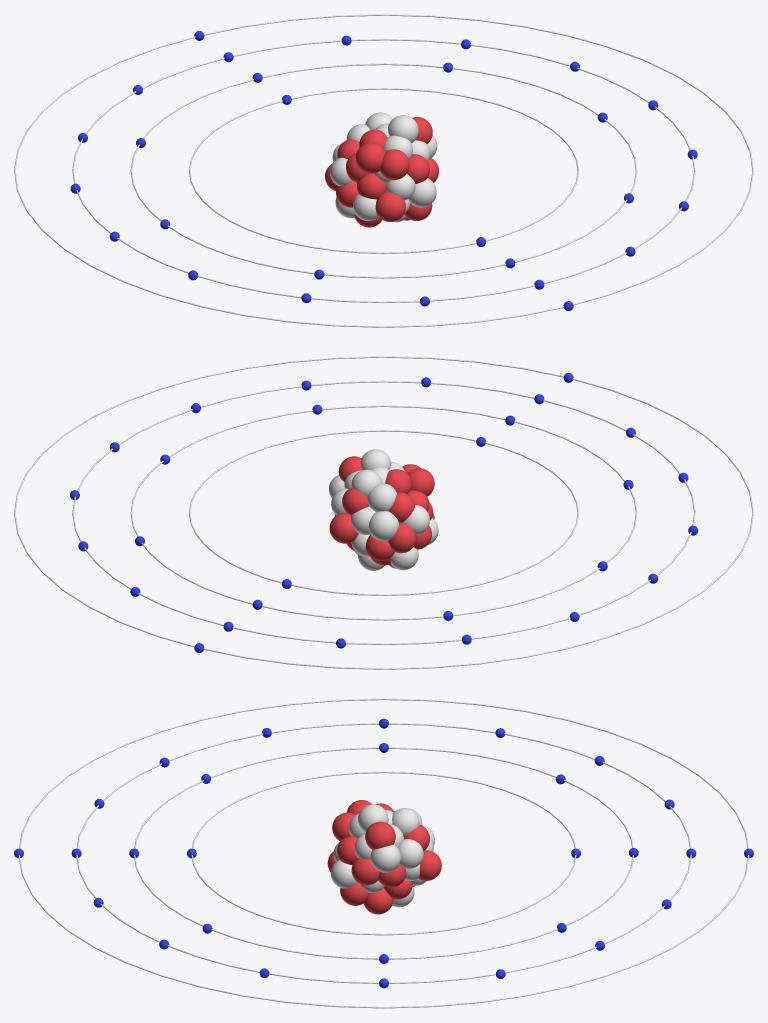
The model's file is Nickel.glb.
The picture shows the model from 3 angles, top to bottom: view 1: azimuth 30°, elevation 25°; view 2: azimuth 150°, elevation 25°; view 3: azimuth 270°, elevation 25°; orthographic projection.
Visible parts, largest first — view 1: N-Schale, M-Schale, L-Schale, K-Schale, Proton 27, Proton 28, Proton 24, Neutron 31, Proton 10, Neutron 27; view 2: N-Schale, M-Schale, L-Schale, K-Schale, Neutron 8, Neutron 16, Proton 18, Proton 4, Neutron 30, Proton 28, Proton 8; view 3: N-Schale, M-Schale, L-Schale, K-Schale, Proton 26, Neutron 28, Neutron 22, Proton 22, Neutron 31, Proton 25, Proton 18, Neutron 30 (+1 smaller).
Boxes of the visible parts, box(x1,y1,x2,y2) form: N-Schale: box(14, 14, 753, 327); M-Schale: box(72, 38, 695, 303); L-Schale: box(130, 63, 637, 278); K-Schale: box(189, 88, 578, 253); Proton 27: box(380, 149, 409, 180); Proton 28: box(355, 142, 385, 173); Proton 24: box(375, 191, 405, 221); Neutron 31: box(388, 115, 418, 143); Proton 10: box(357, 173, 386, 199); Neutron 27: box(409, 178, 436, 207); N-Schale: box(14, 356, 753, 669); M-Schale: box(72, 380, 695, 645); L-Schale: box(130, 405, 637, 620); K-Schale: box(189, 430, 578, 595); Neutron 8: box(368, 511, 398, 540); Neutron 16: box(367, 483, 396, 512); Proton 18: box(329, 513, 358, 543); Proton 4: box(388, 522, 416, 553); Neutron 30: box(351, 469, 382, 496); Proton 28: box(407, 468, 434, 496); Proton 8: box(388, 492, 414, 522); N-Schale: box(18, 698, 749, 1008); M-Schale: box(76, 723, 691, 983); L-Schale: box(134, 747, 633, 959); K-Schale: box(191, 771, 576, 935); Proton 26: box(365, 821, 395, 849); Neutron 28: box(370, 844, 400, 872); Neutron 22: box(398, 839, 423, 868); Proton 22: box(351, 858, 379, 885); Neutron 31: box(358, 804, 388, 832); Proton 25: box(363, 888, 393, 914); Proton 18: box(418, 850, 441, 880); Neutron 30: box(392, 808, 419, 835).
Size of the model in its own units: 19.04 by 3.03 by 19.26.
